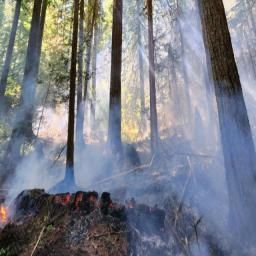Low smoke: (16, 97, 228, 203)
Small fire: (0, 199, 17, 229)
